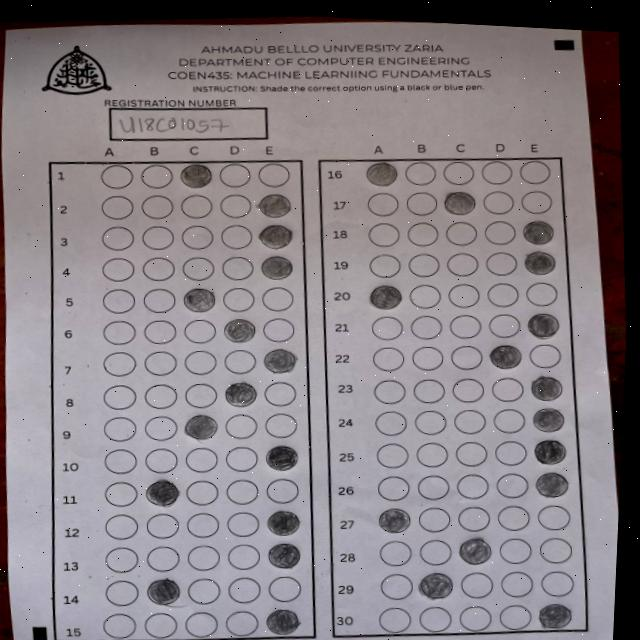bubble: (266, 541, 303, 571), (418, 570, 454, 600), (146, 576, 182, 606), (265, 508, 302, 537), (458, 536, 493, 566), (178, 162, 214, 191), (258, 222, 294, 251), (144, 478, 180, 507), (265, 607, 301, 636), (537, 601, 573, 630), (529, 373, 564, 402), (264, 443, 299, 472), (183, 412, 218, 441), (531, 405, 566, 434), (534, 470, 569, 499), (257, 191, 293, 219), (526, 310, 560, 339), (368, 283, 403, 311), (262, 347, 297, 375), (259, 253, 294, 281), (377, 506, 412, 534), (532, 438, 567, 466), (224, 379, 258, 407), (488, 343, 523, 370), (442, 189, 476, 216), (182, 286, 216, 313), (522, 219, 556, 246), (365, 160, 399, 187), (523, 249, 557, 276), (222, 316, 256, 343)
